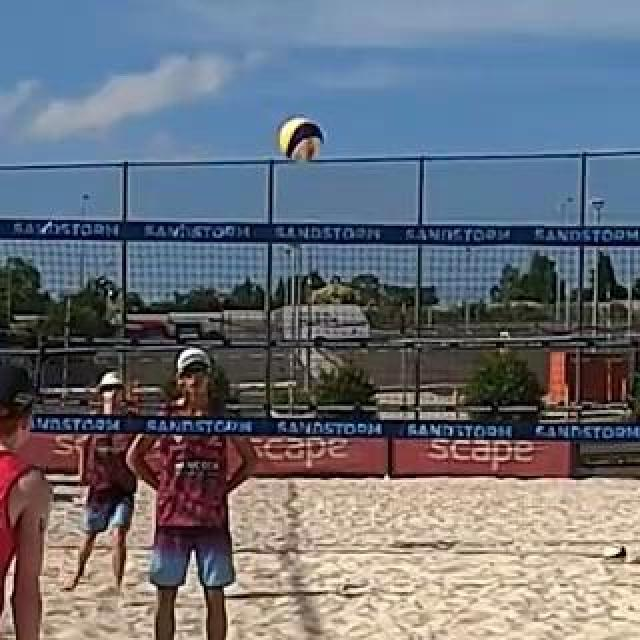volleyball: (279, 117, 325, 161), (604, 543, 628, 565)
